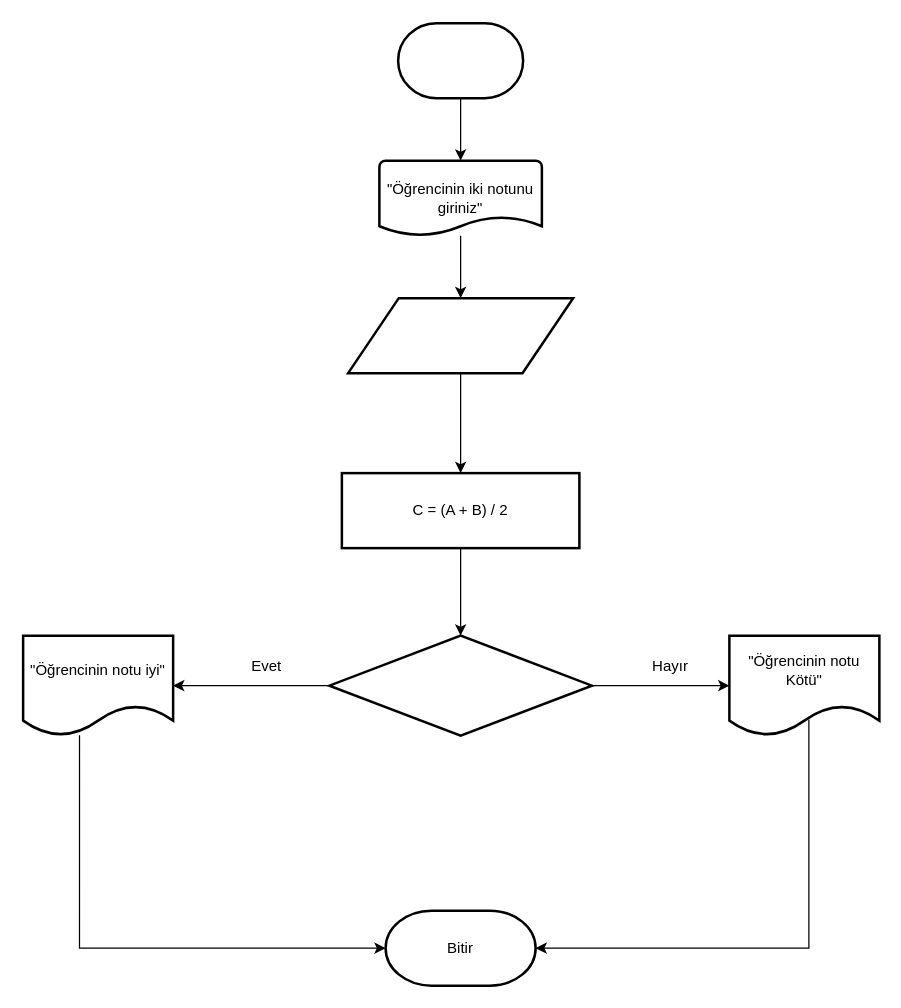
This 901x1008 diagram has some shape labels left out. Each missing label, with the centre of its shape:
"A , B" belongs at (x=460, y=335).
"Başla" belongs at (x=460, y=60).
"C > 70" belongs at (x=460, y=685).
